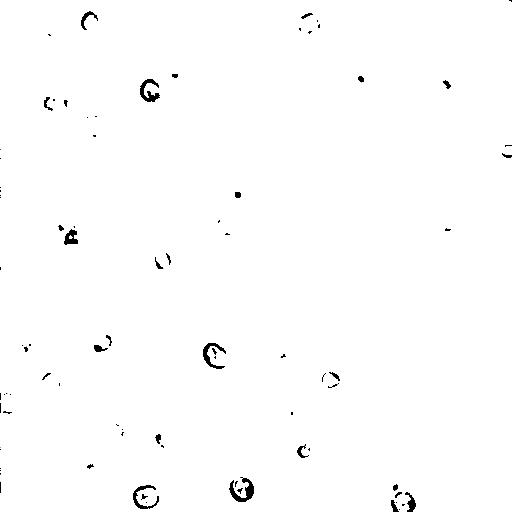micro-algae: (19, 88, 138, 202), (92, 389, 166, 460), (239, 417, 308, 488), (119, 41, 184, 102), (56, 407, 113, 461), (403, 0, 472, 36), (52, 268, 94, 314), (478, 49, 512, 95), (57, 86, 96, 124), (479, 440, 512, 484), (32, 85, 69, 122), (165, 414, 201, 449), (50, 235, 87, 268), (160, 49, 192, 87), (209, 207, 246, 239), (290, 10, 326, 41), (212, 70, 245, 103), (201, 341, 231, 370), (79, 113, 109, 141), (430, 69, 460, 97), (138, 418, 170, 444), (41, 16, 69, 44), (271, 346, 298, 375), (345, 64, 374, 90), (132, 485, 161, 510), (39, 371, 63, 401), (45, 212, 72, 238), (228, 477, 256, 502), (139, 78, 164, 105), (271, 401, 299, 425), (14, 336, 37, 364), (437, 226, 462, 251), (78, 454, 104, 478), (385, 474, 406, 501), (0, 391, 23, 415), (390, 491, 417, 511), (90, 329, 113, 351), (102, 422, 125, 444), (80, 11, 101, 34), (262, 94, 283, 116), (62, 227, 83, 248), (321, 370, 342, 390), (153, 251, 173, 271), (20, 503, 53, 512), (296, 443, 312, 460), (230, 189, 247, 203), (500, 143, 512, 160)
